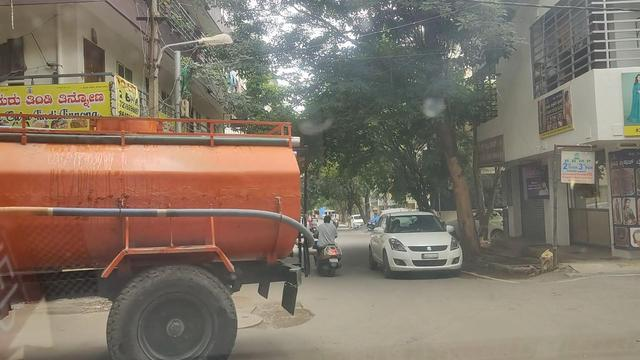HMV: (0, 97, 307, 360)
LMV: (369, 201, 461, 282), (307, 200, 347, 284)
